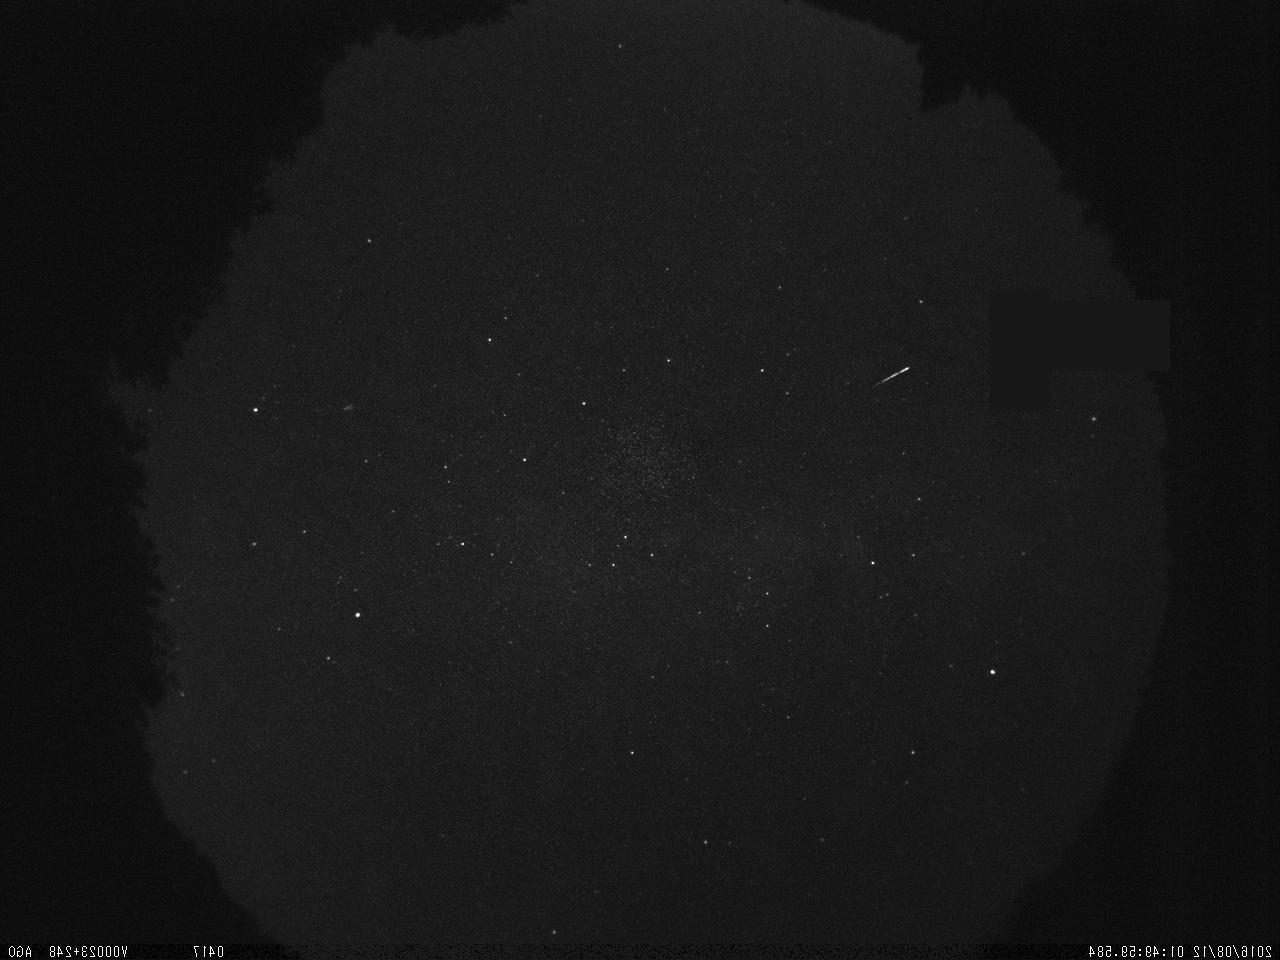meteor: (859, 352, 933, 400)
